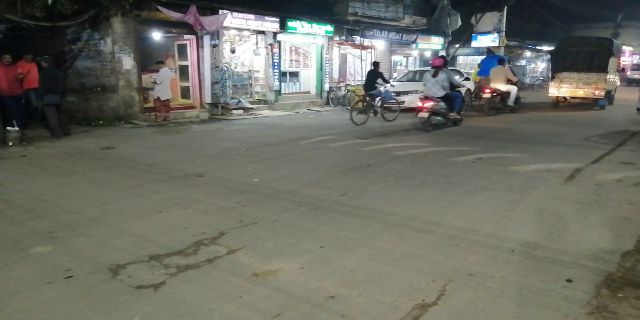Cycle: (347, 63, 401, 125)
Minitruck: (547, 37, 621, 109)
Motorbike: (415, 56, 464, 131), (481, 54, 525, 118)
